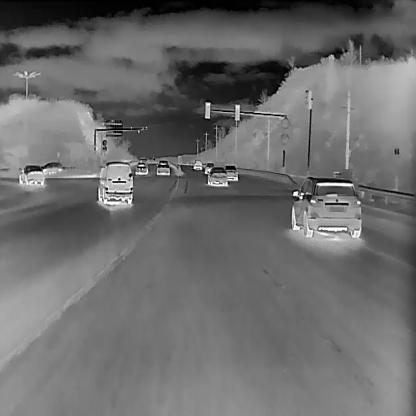car: (290, 175, 361, 239), (98, 160, 132, 206), (18, 164, 44, 186), (206, 166, 228, 186), (40, 161, 61, 174), (134, 157, 148, 175), (224, 165, 238, 182), (156, 160, 169, 176), (203, 161, 214, 174), (193, 159, 202, 170)
